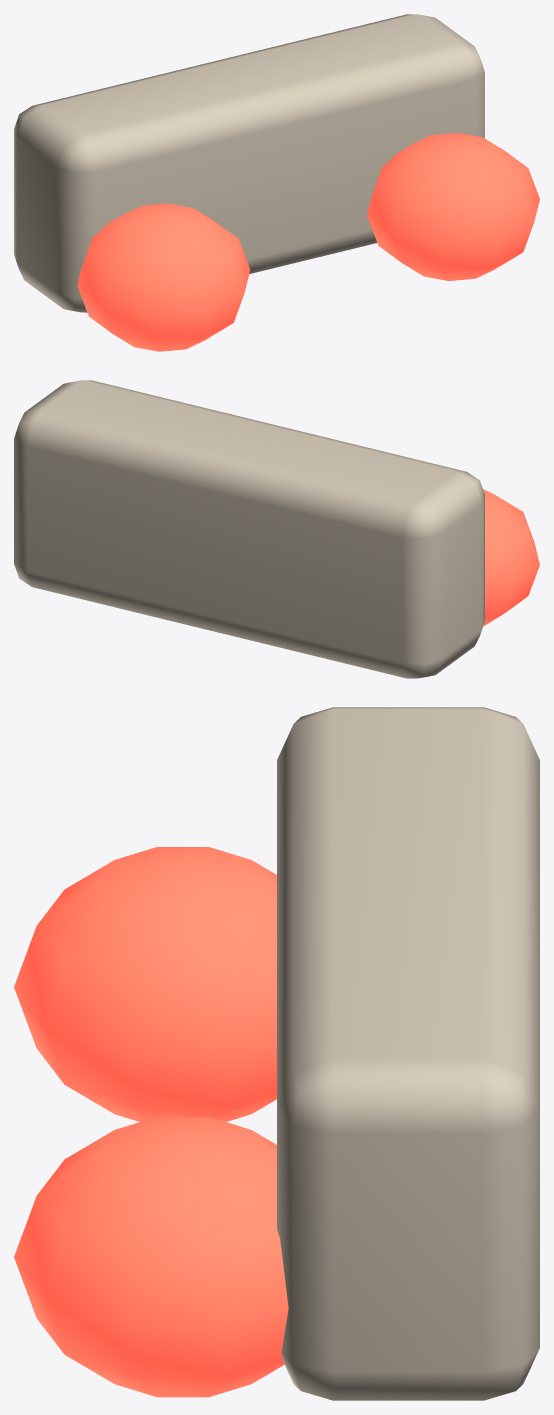
The model's file is mall_emergency_light.glb.
3 views of the same model, one above another, from view 1: azimuth 30°, elevation 25°; view 2: azimuth 150°, elevation 25°; view 3: azimuth 270°, elevation 25° (orthographic). The views are drawn at different scales.
Visible parts, largest first — view 1: EmergencyLight; view 2: EmergencyLight; view 3: EmergencyLight.
Part boxes in pixels (bbox=[...]): EmergencyLight: bbox=[14, 14, 539, 351]; EmergencyLight: bbox=[14, 380, 539, 678]; EmergencyLight: bbox=[14, 707, 539, 1400].
Size of the model in its own units: 0.5112 by 0.212 by 0.28.
